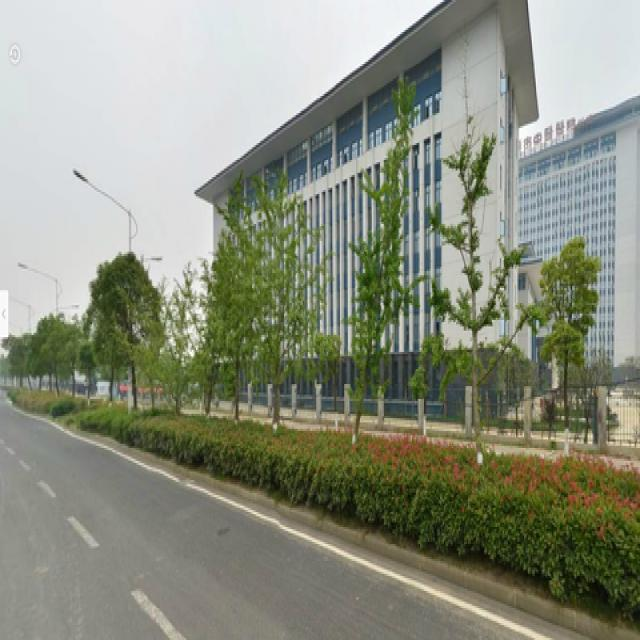gink: (421, 128, 528, 461)
